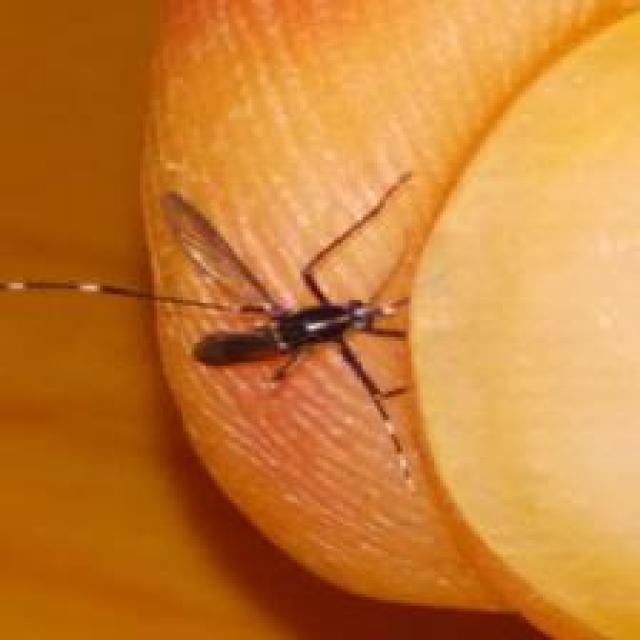Aedes albopictus: (0, 168, 417, 486)
